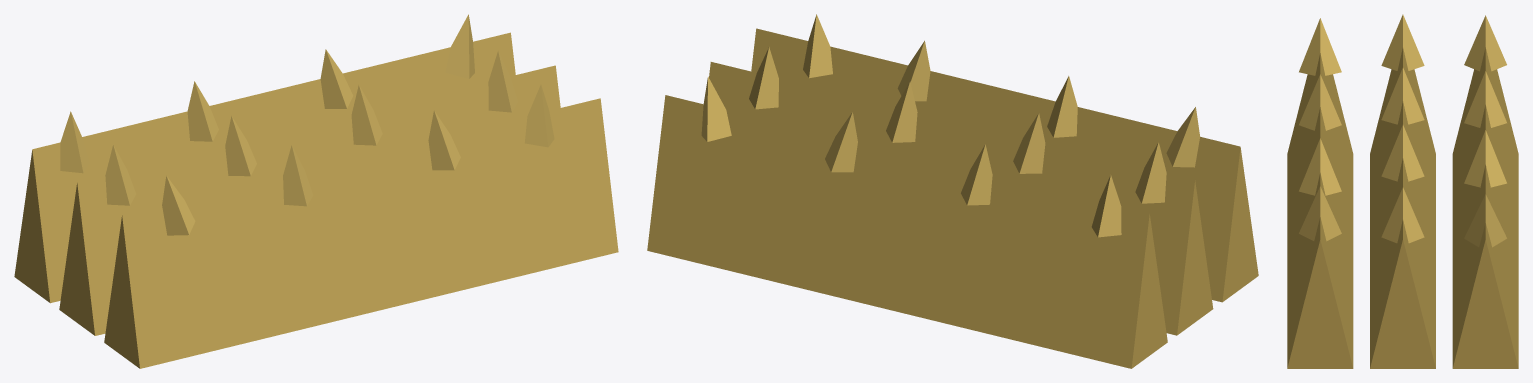
The model's file is Dorf_Feld_Getreide.fbx.
The picture shows the model from 3 angles, left to right: view 1: azimuth 30°, elevation 25°; view 2: azimuth 150°, elevation 25°; view 3: azimuth 270°, elevation 25°; orthographic projection. The views are drawn at different scales.
Parts seen in each view (by area): view 1: Dorf_Feld_Getreide; view 2: Dorf_Feld_Getreide; view 3: Dorf_Feld_Getreide.
Part boxes in pixels (x1,y1,x2,y2): Dorf_Feld_Getreide: (14, 14, 618, 368); Dorf_Feld_Getreide: (647, 14, 1258, 368); Dorf_Feld_Getreide: (1287, 14, 1518, 368).
Size of the model in its own units: 4 by 1.36 by 1.82.
